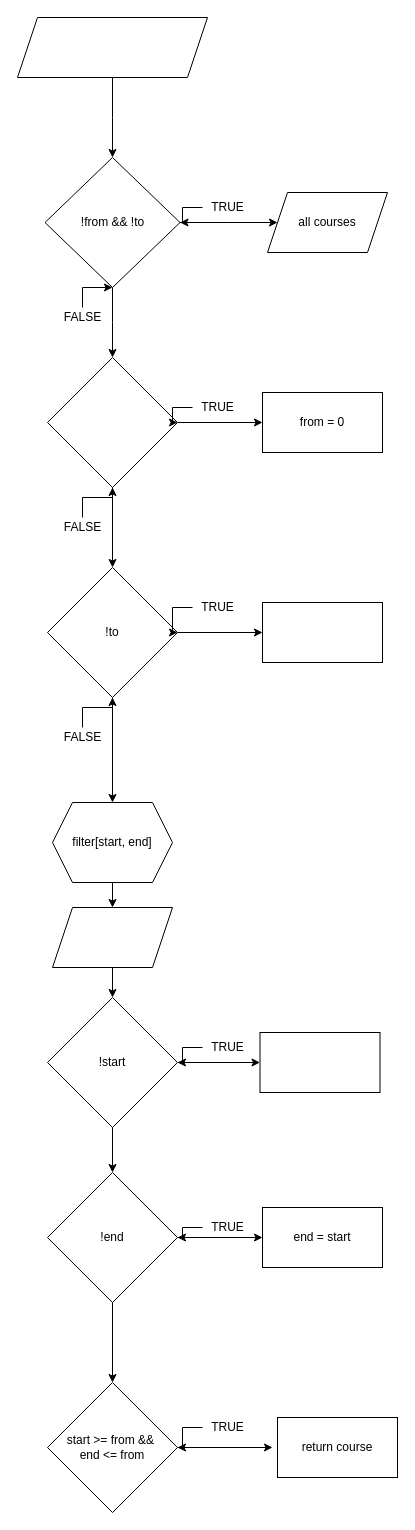
Some shapes in this 415 by 1530 pixel diagram are drawn without their labels. Each missing label, with the centre of its shape:
!from: [112,422]
course prices[start,end]: [112,937]
range[from, to]: [112,47]
start = 0: [319,1062]
to = from: [322,632]
